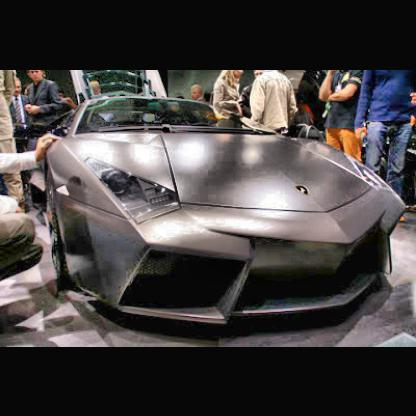Lamborghini Reventon Coupe 2008: (30, 97, 410, 323)
